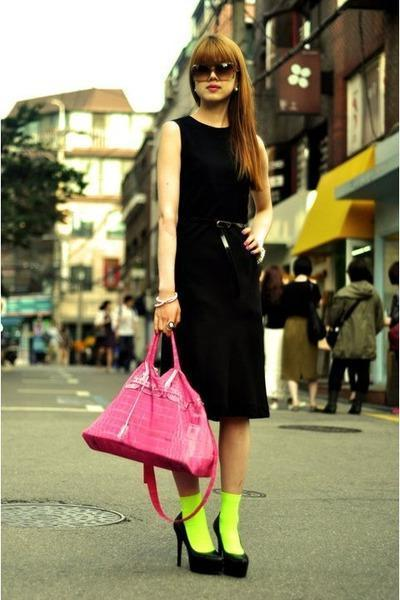dress: (153, 112, 273, 422)
